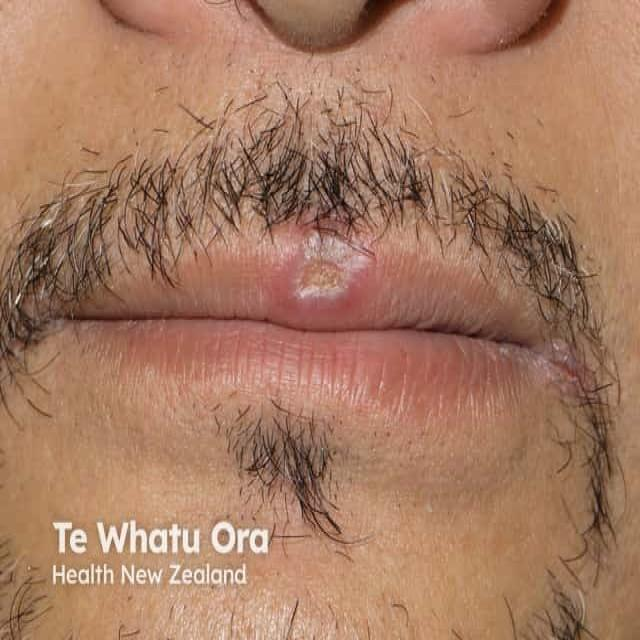lupus-detected: (248, 193, 427, 344), (506, 308, 640, 447)
